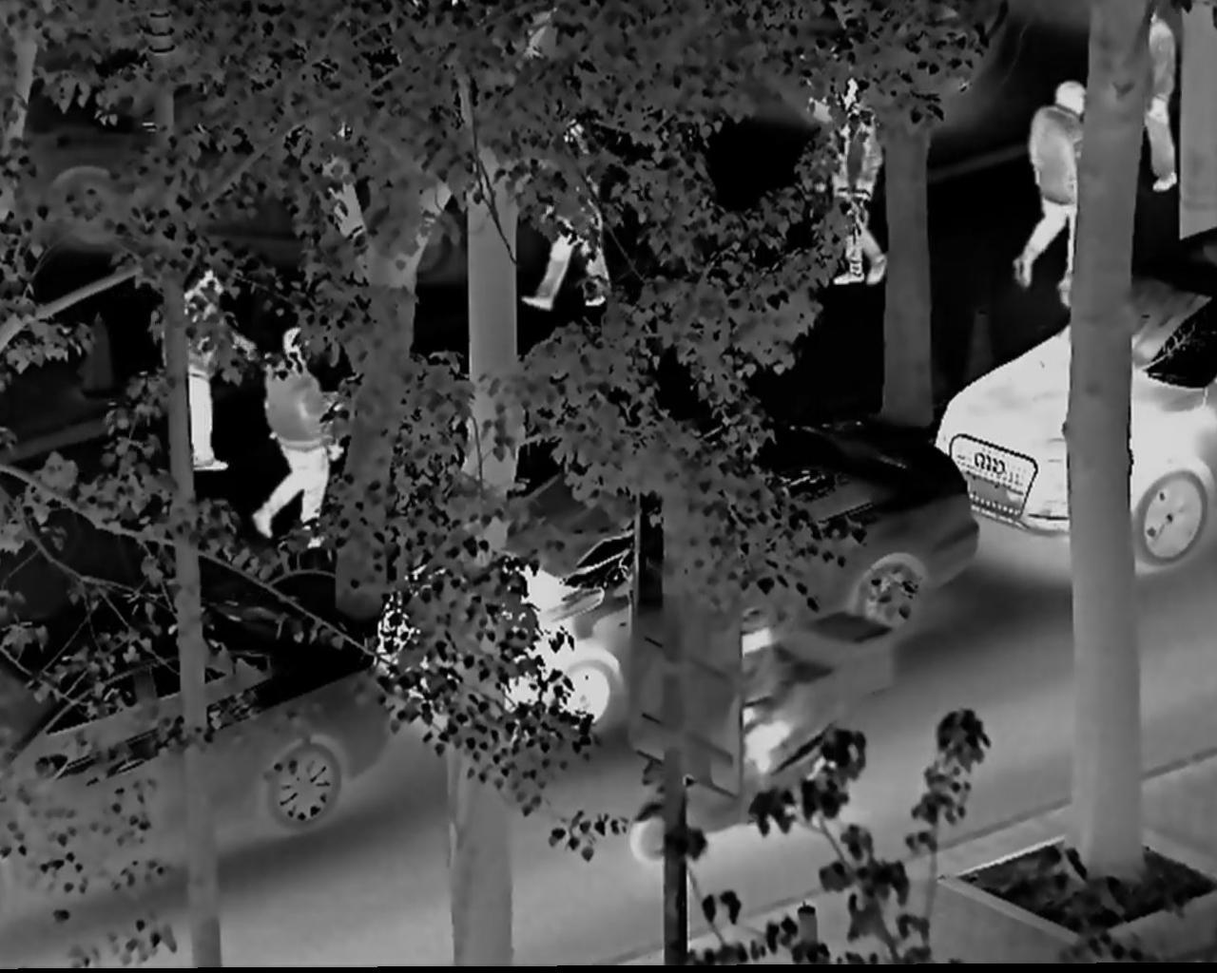person: (244, 317, 347, 562), (815, 72, 897, 302), (530, 104, 619, 309), (165, 260, 245, 473), (1021, 67, 1087, 298), (1140, 12, 1181, 197)
